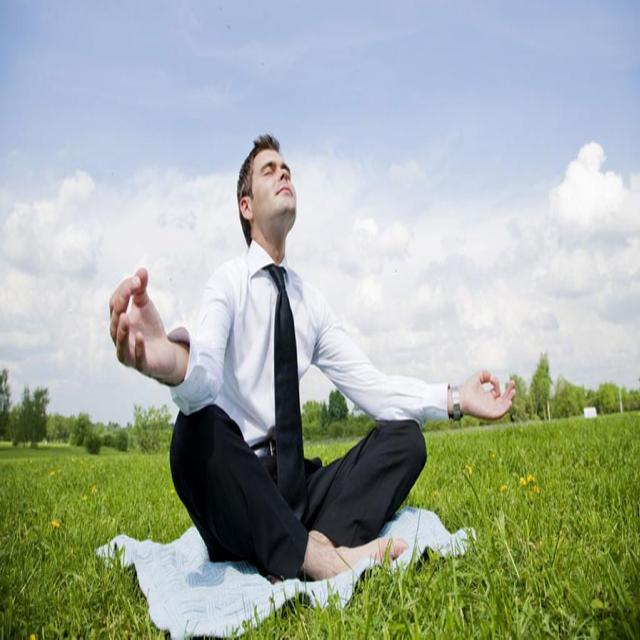Face: (242, 134, 305, 246)
